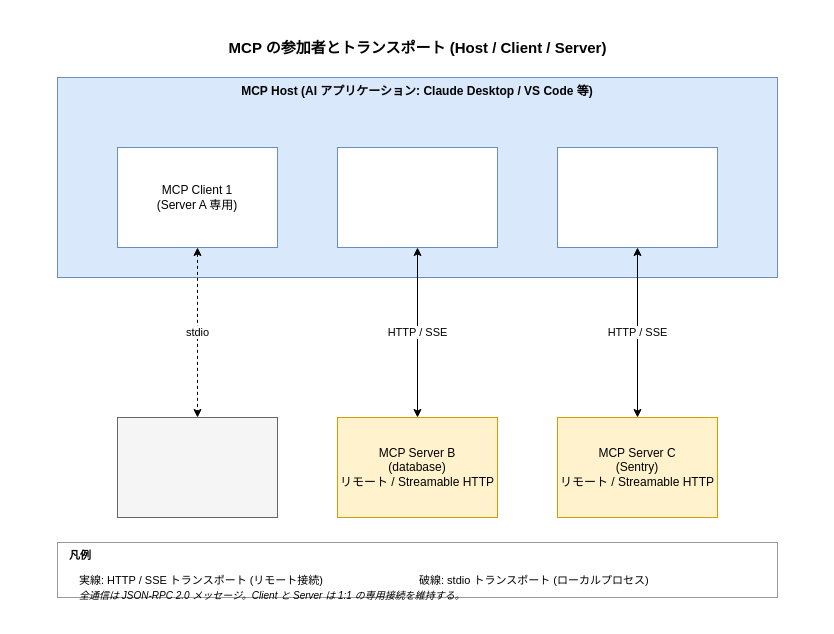
Image size: 834x634. Some labels were removed from this diagram. Each missing label, with the centre of its shape:
MCP Client 2 (Server B 専用): point (417, 197)
MCP Client 3 (Server C 専用): point (637, 197)
MCP Server A (filesystem) ローカル / stdio: point (197, 467)
